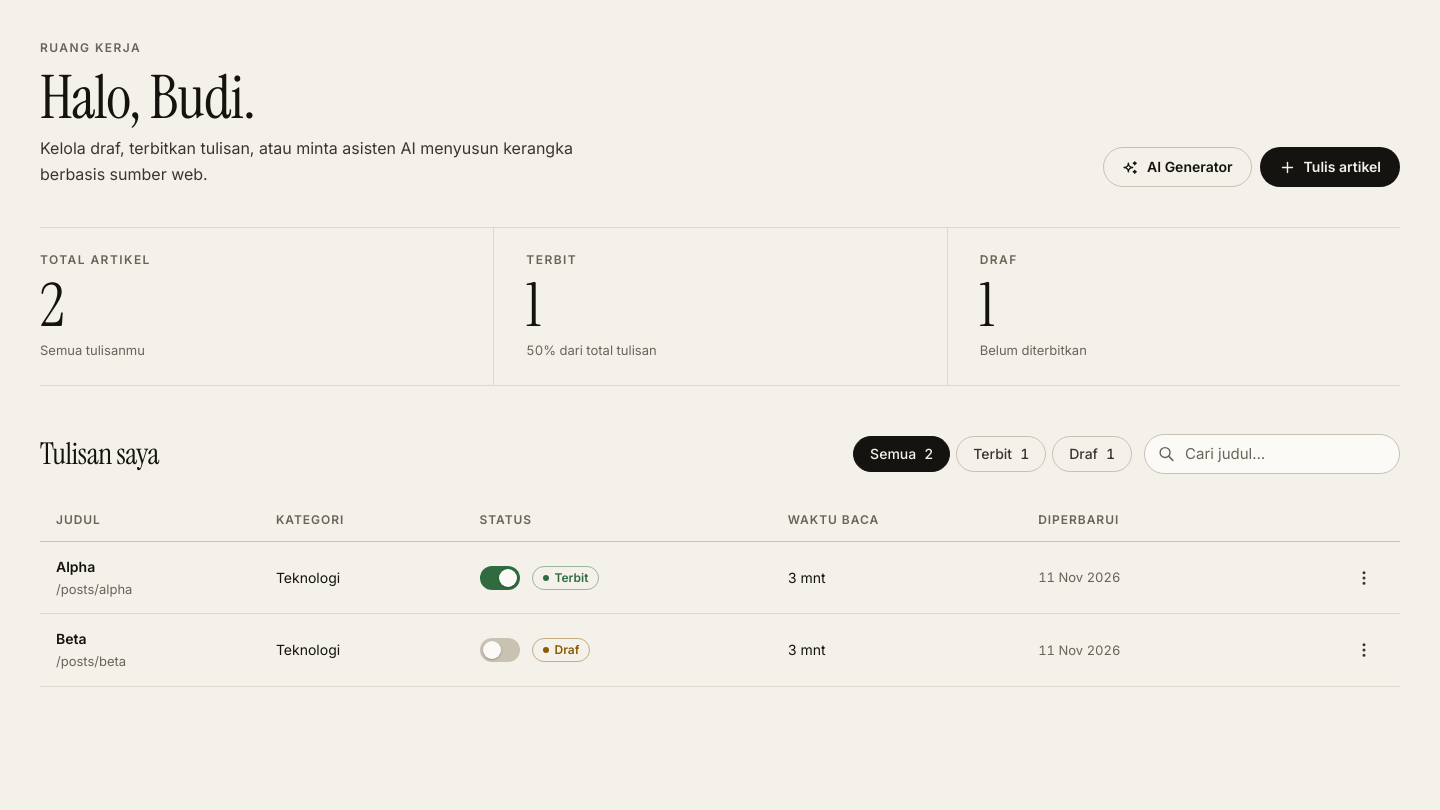
AuthorDashboard › moves an AI draft into the editor
This screenshot has width=1440, height=810.
Expected: the text "Alpha" is shown, [56, 558, 95, 575]
Click the button "AI Generator".
click(1177, 167)  # box [1103, 147, 1252, 187]
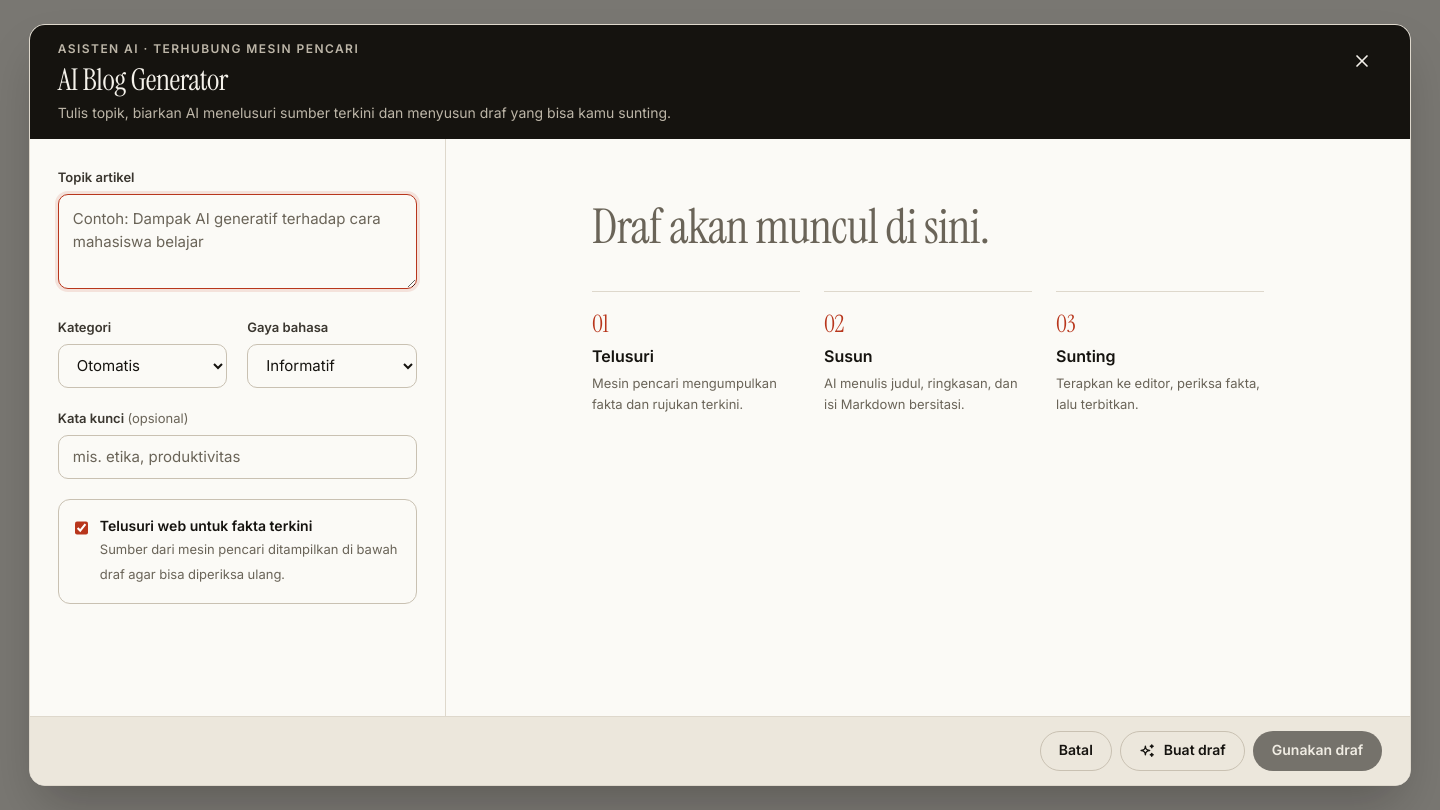
Click the button "Batal".
click(1076, 751)  # box [1040, 731, 1112, 771]
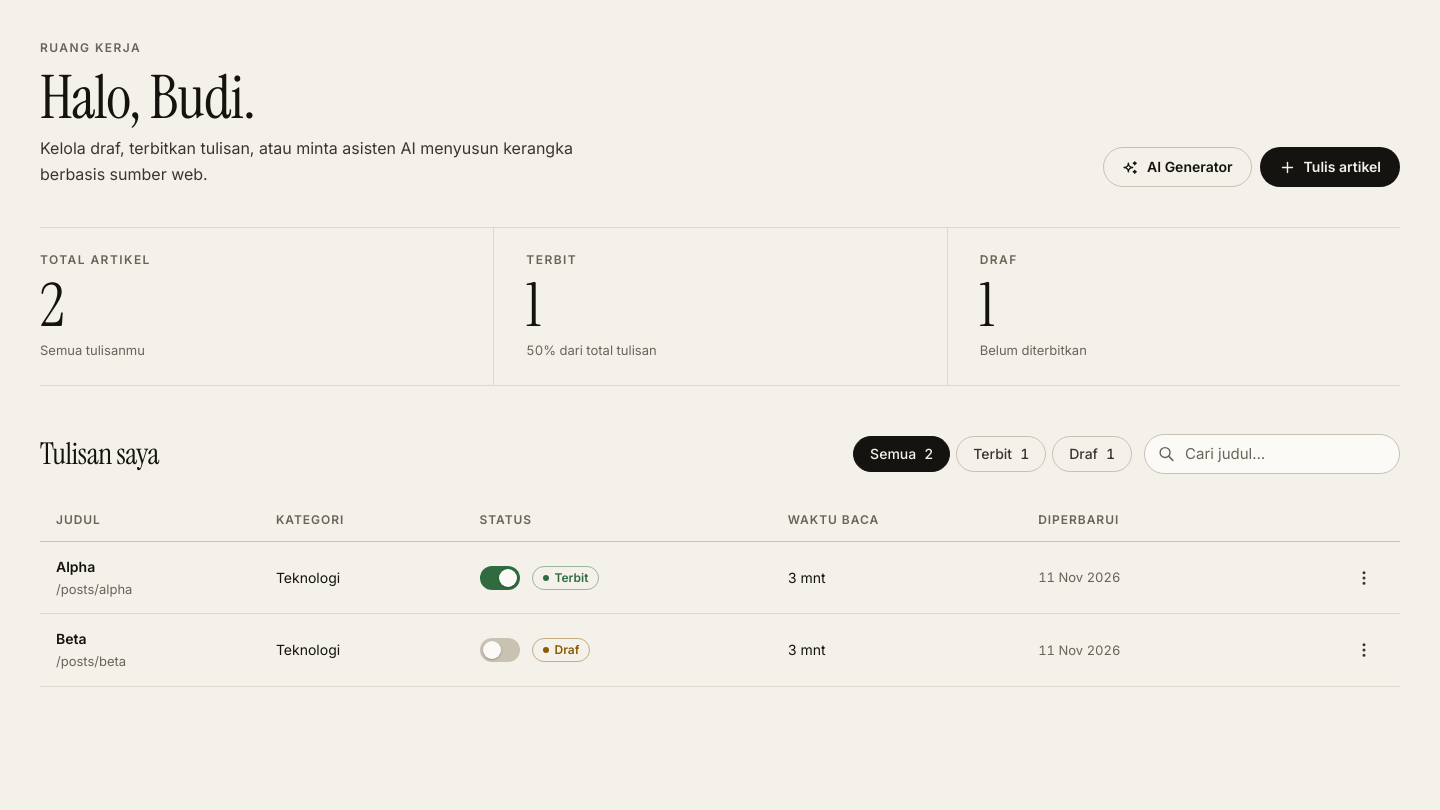
Result: the dialog is gone
Click the button "AI Generator".
click(1177, 167)  # box [1103, 147, 1252, 187]
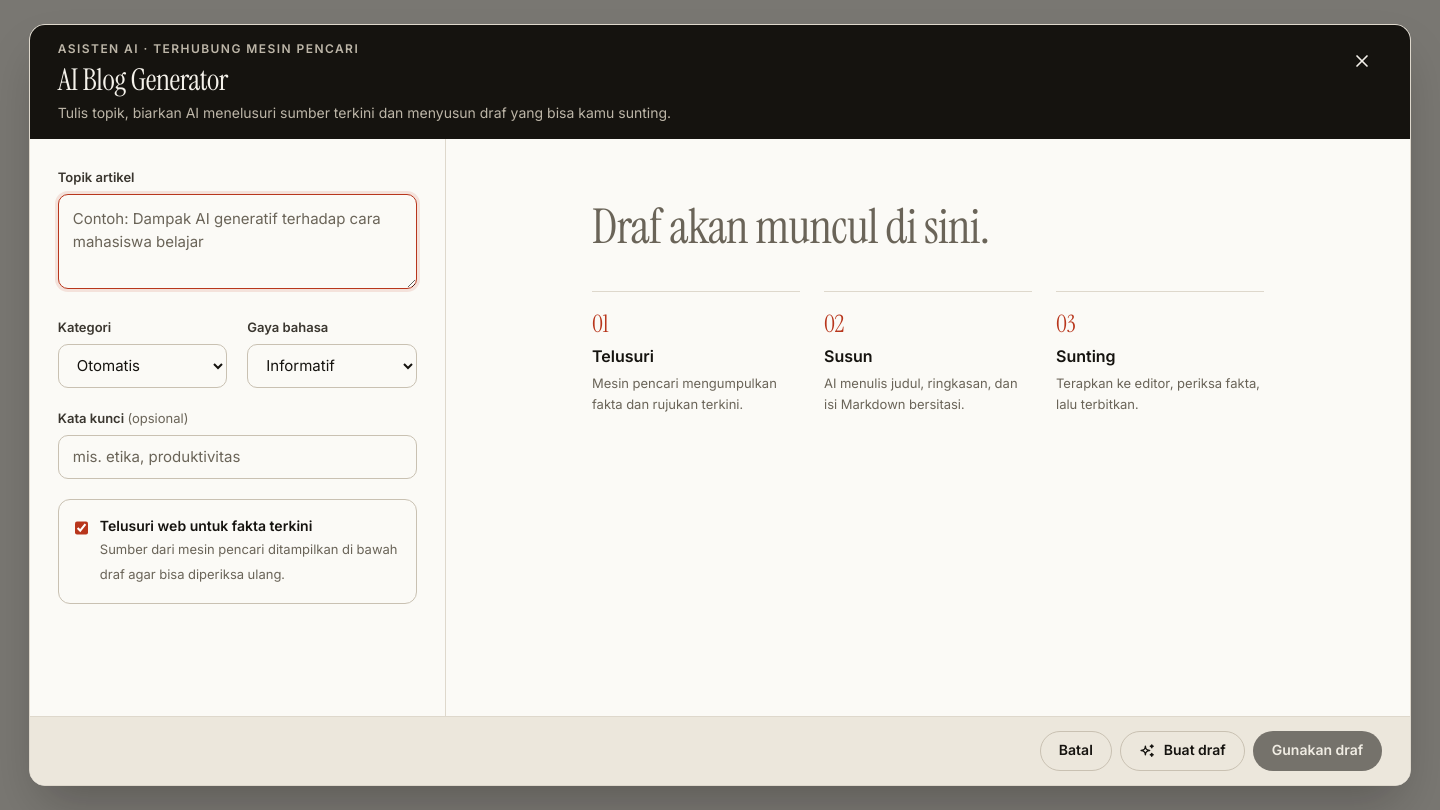
Type "opini" into the text box labelled "Topik artikel".
click(237, 242); type("opini")  # box [58, 194, 417, 289]
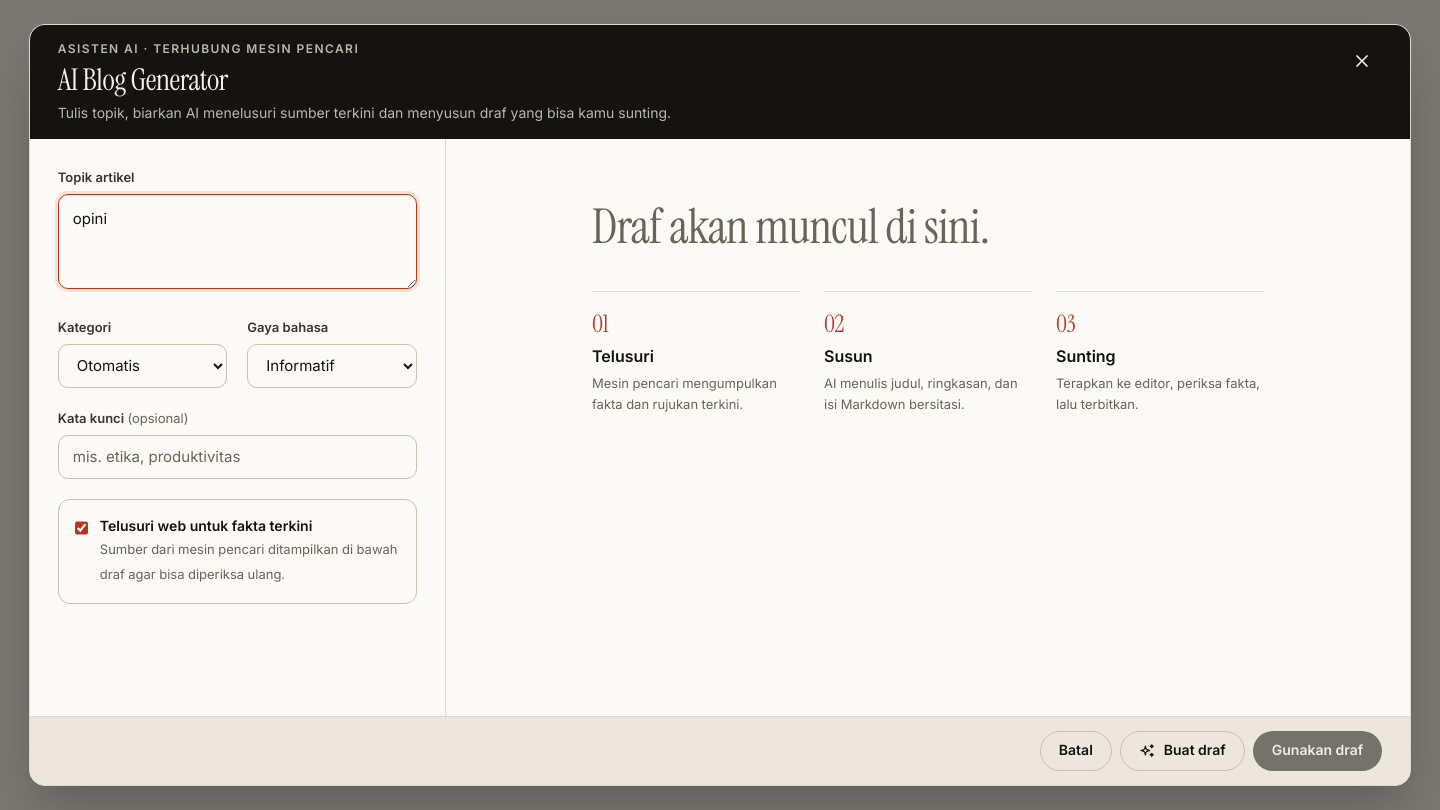
Click the button "Buat draf".
click(1182, 751)  # box [1120, 731, 1245, 771]
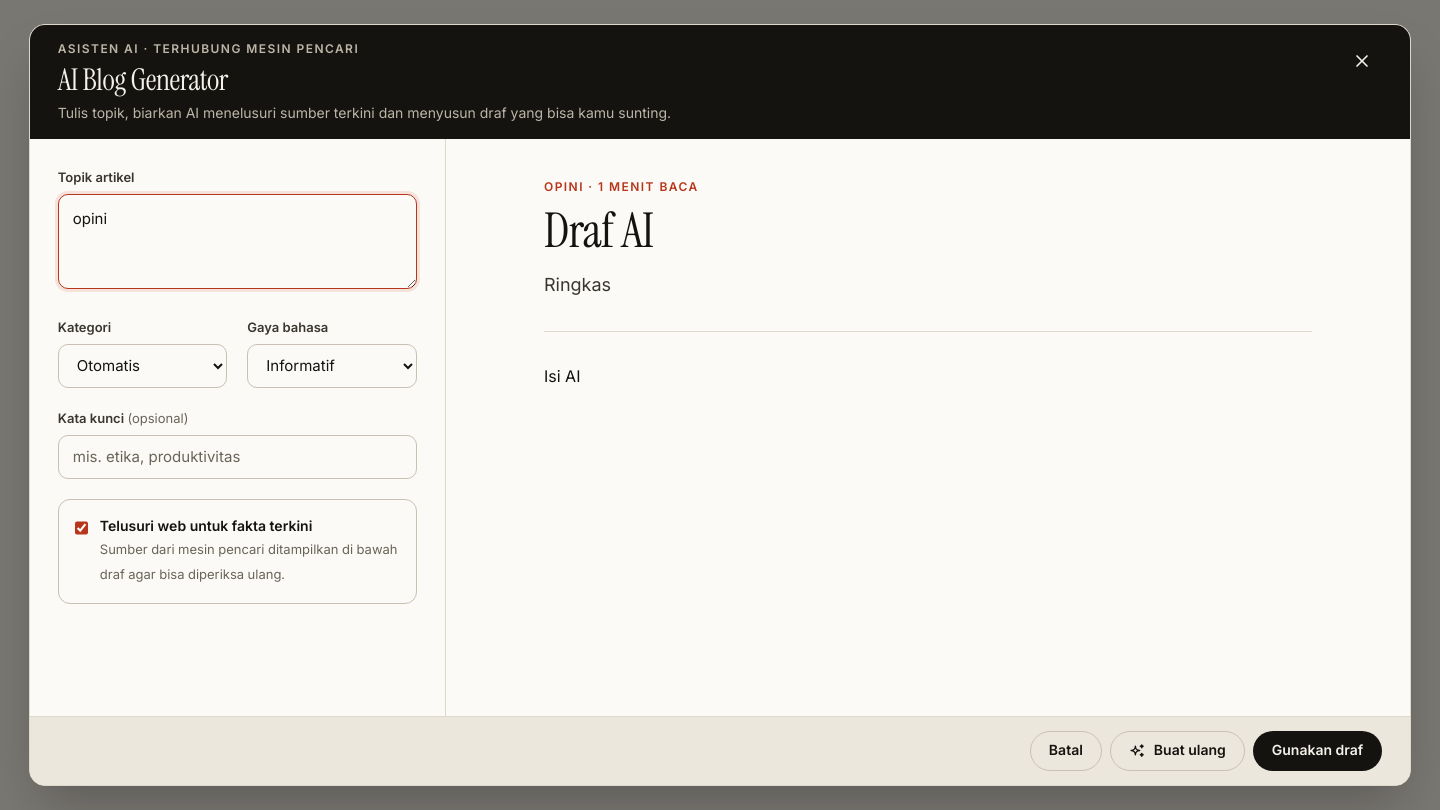
Result: the button "Gunakan draf" is enabled
Click the button "Gunakan draf".
click(1318, 751)  # box [1253, 731, 1382, 771]
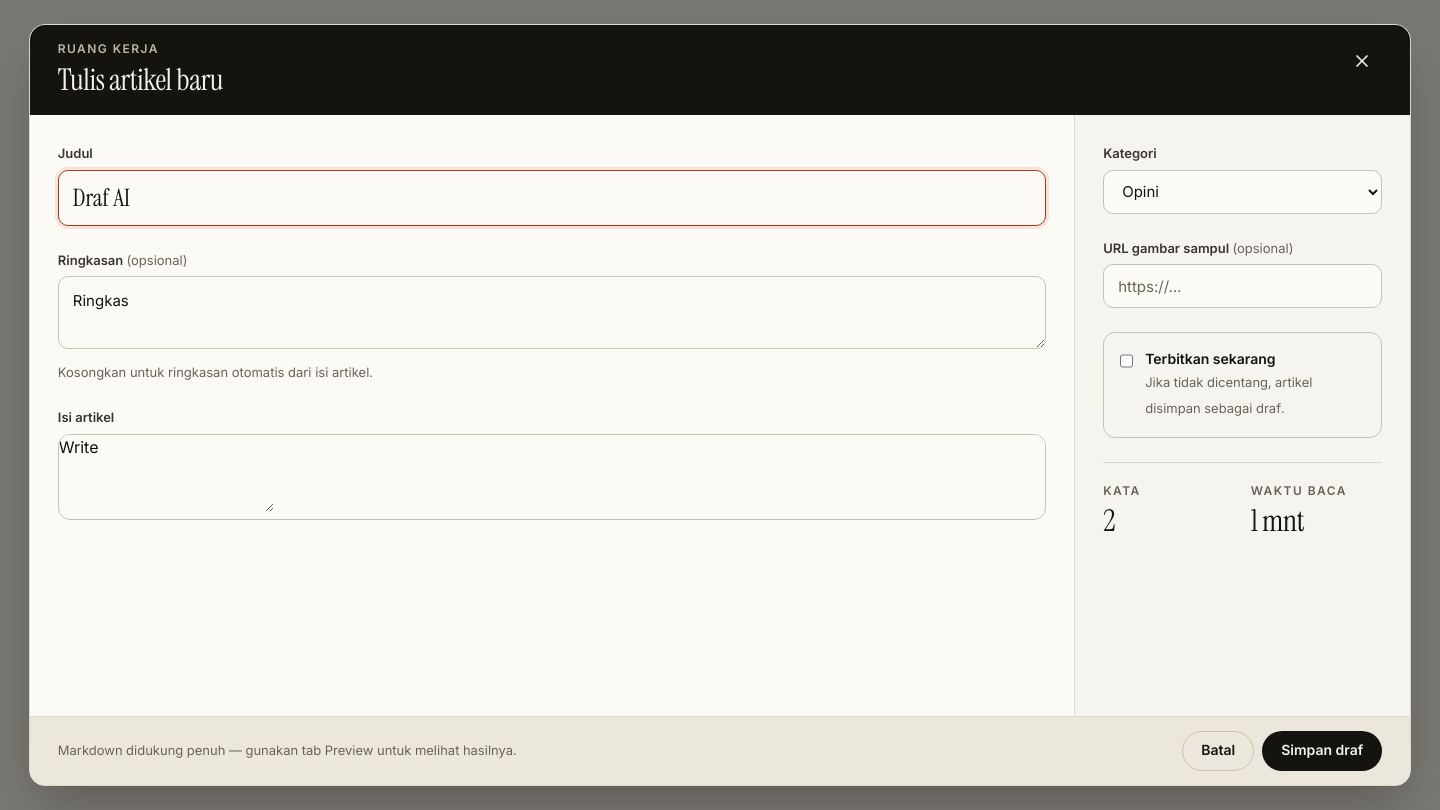
Result: the dialog "Tulis artikel baru" is shown
Result: the field labelled "Judul" holds "Draf AI" at [58, 170, 1046, 226]
Result: the dropdown labelled "Kategori" shows "Opini" at [1103, 170, 1382, 214]
